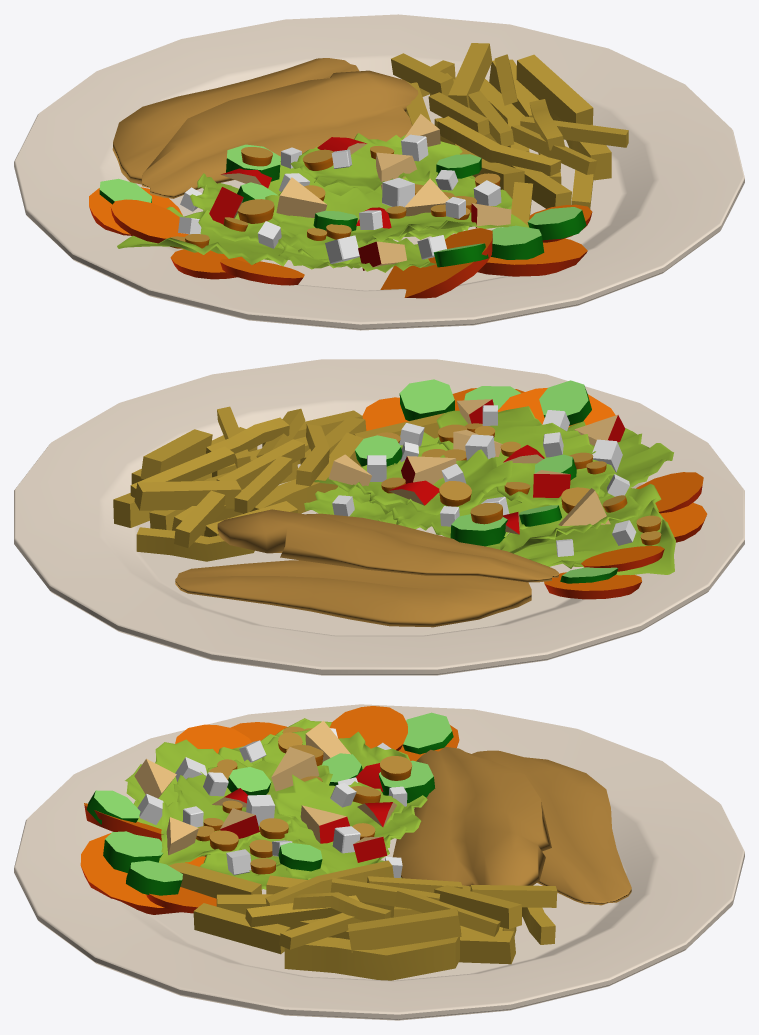
File: mesh_fishandchips.fbx
3 views of the same model, one above another, from view 1: azimuth 30°, elevation 25°; view 2: azimuth 150°, elevation 25°; view 3: azimuth 270°, elevation 25° (orthographic).
Parts seen in each view (by area): view 1: mesh_fishandchips_plate, mesh_fishandchips_fish, mesh_fishandchips_fries, mesh_fishandchips_lettuce, mesh_fishandchips_tomato, mesh_fishandchips_cucumber1, mesh_fishandchips_apple, mesh_fishandchips_feta, mesh_fishandchips_carrot; view 2: mesh_fishandchips_plate, mesh_fishandchips_fish, mesh_fishandchips_fries, mesh_fishandchips_lettuce, mesh_fishandchips_cucumber1, mesh_fishandchips_tomato, mesh_fishandchips_apple, mesh_fishandchips_feta, mesh_fishandchips_carrot; view 3: mesh_fishandchips_plate, mesh_fishandchips_fries, mesh_fishandchips_fish, mesh_fishandchips_lettuce, mesh_fishandchips_cucumber1, mesh_fishandchips_tomato, mesh_fishandchips_apple, mesh_fishandchips_feta, mesh_fishandchips_carrot.
Boxes of the visible parts, left/top/right/bottom form: mesh_fishandchips_plate: left=14, top=14, right=744, bottom=330; mesh_fishandchips_fish: left=112, top=58, right=418, bottom=198; mesh_fishandchips_fries: left=391, top=43, right=628, bottom=225; mesh_fishandchips_lettuce: left=117, top=133, right=529, bottom=272; mesh_fishandchips_tomato: left=89, top=187, right=592, bottom=298; mesh_fishandchips_cucumber1: left=99, top=144, right=586, bottom=267; mesh_fishandchips_apple: left=209, top=114, right=511, bottom=270; mesh_fishandchips_feta: left=178, top=134, right=501, bottom=263; mesh_fishandchips_carrot: left=170, top=146, right=500, bottom=248; mesh_fishandchips_plate: left=14, top=359, right=744, bottom=675; mesh_fishandchips_fish: left=175, top=509, right=558, bottom=627; mesh_fishandchips_fries: left=113, top=406, right=444, bottom=561; mesh_fishandchips_lettuce: left=304, top=406, right=675, bottom=575; mesh_fishandchips_cucumber1: left=355, top=379, right=617, bottom=583; mesh_fishandchips_tomato: left=362, top=388, right=707, bottom=599; mesh_fishandchips_apple: left=328, top=399, right=625, bottom=534; mesh_fishandchips_feta: left=332, top=405, right=636, bottom=556; mesh_fishandchips_carrot: left=376, top=423, right=661, bottom=545; mesh_fishandchips_plate: left=14, top=704, right=744, bottom=1020; mesh_fishandchips_fries: left=169, top=860, right=557, bottom=980; mesh_fishandchips_fish: left=393, top=746, right=631, bottom=905; mesh_fishandchips_lettuce: left=125, top=718, right=427, bottom=889; mesh_fishandchips_cucumber1: left=86, top=712, right=453, bottom=895; mesh_fishandchips_tomato: left=80, top=706, right=459, bottom=914; mesh_fishandchips_apple: left=134, top=720, right=396, bottom=862; mesh_fishandchips_feta: left=137, top=728, right=407, bottom=878; mesh_fishandchips_carrot: left=196, top=726, right=412, bottom=874.
Size of the model in its own units: 0.4695 by 0.0583 by 0.4693.
